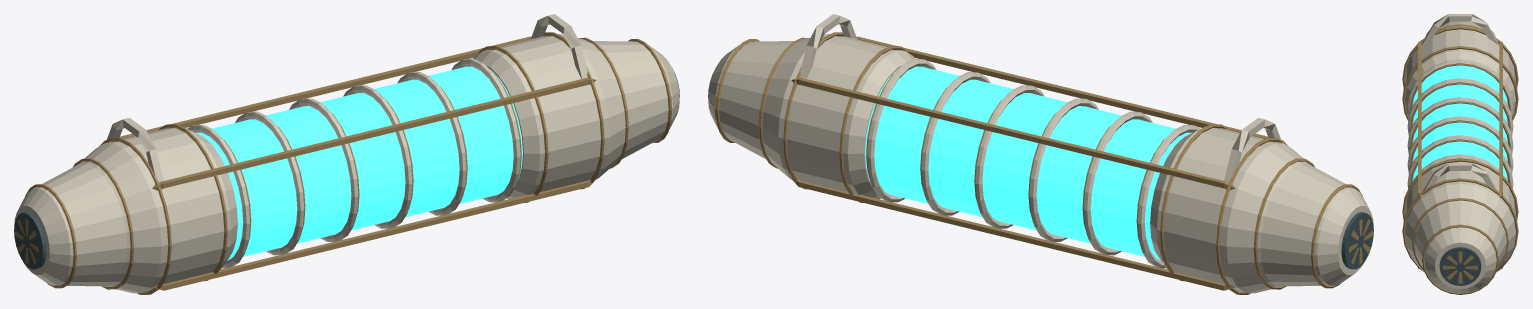
The model's file is AST-ENG-007.glb.
The picture shows the model from 3 angles, left to right: view 1: azimuth 30°, elevation 25°; view 2: azimuth 150°, elevation 25°; view 3: azimuth 270°, elevation 25°; orthographic projection. The views are drawn at different scales.
Visible parts, largest first — view 1: FUS_ivory_enamel, FUS_energy, FUS_champagne_metal, FUS_recess; view 2: FUS_ivory_enamel, FUS_energy, FUS_champagne_metal, FUS_recess; view 3: FUS_ivory_enamel, FUS_champagne_metal, FUS_energy, FUS_recess.
Part boxes in pixels (left/top/right/bottom): FUS_ivory_enamel: left=14, top=14, right=679, bottom=293; FUS_energy: left=195, top=66, right=522, bottom=260; FUS_champagne_metal: left=15, top=32, right=672, bottom=294; FUS_recess: left=14, top=68, right=679, bottom=269; FUS_ivory_enamel: left=708, top=14, right=1373, bottom=293; FUS_energy: left=865, top=66, right=1192, bottom=260; FUS_champagne_metal: left=715, top=32, right=1372, bottom=294; FUS_recess: left=708, top=68, right=1373, bottom=269; FUS_ivory_enamel: left=1405, top=14, right=1515, bottom=293; FUS_champagne_metal: left=1402, top=24, right=1518, bottom=294; FUS_energy: left=1413, top=65, right=1507, bottom=180; FUS_recess: left=1439, top=247, right=1481, bottom=285.
Bounding box in the file's own units: 16.56 × 4.06 × 3.62.
Materials: 4 (2 with a texture image).
